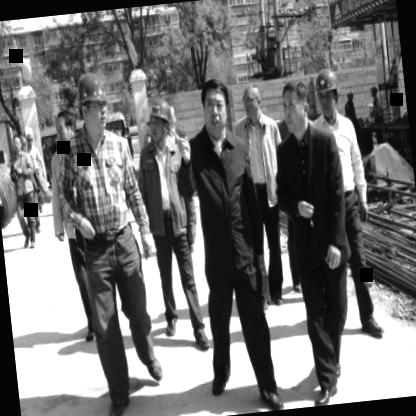head: (195, 74, 233, 142), (278, 74, 310, 140), (239, 76, 265, 126), (52, 108, 78, 150), (11, 132, 24, 156)
helmet: (71, 68, 112, 141), (312, 64, 344, 119), (146, 98, 176, 146), (18, 132, 27, 154)
